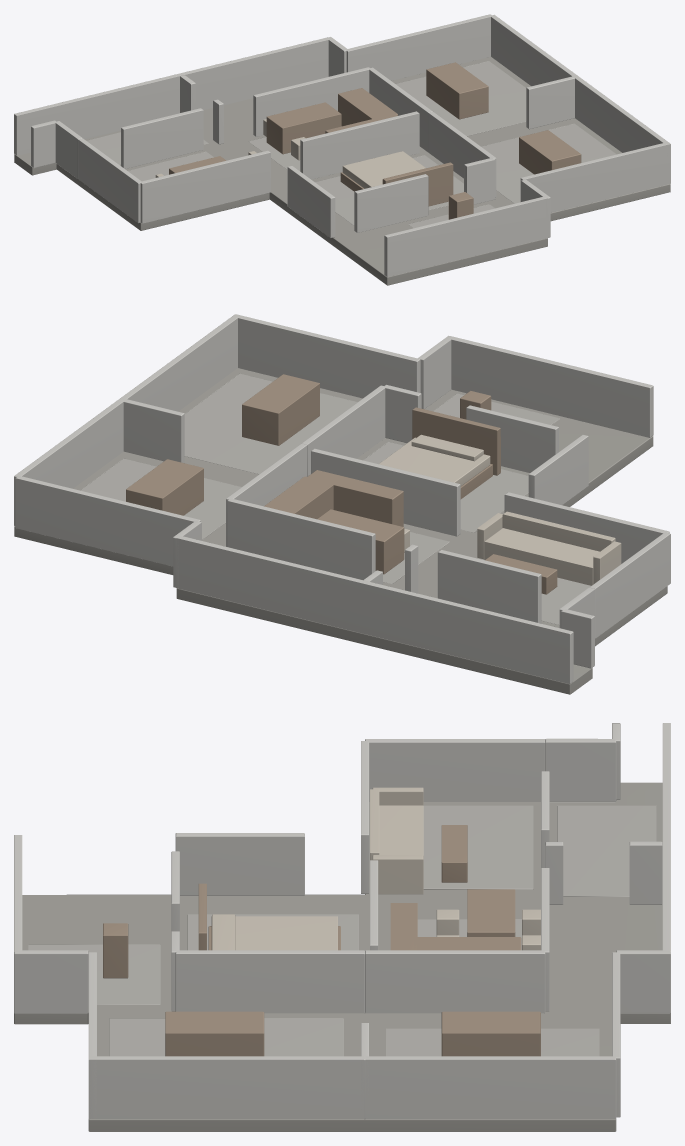
File: exhibition.glb
The picture shows the model from 3 angles, top to bottom: view 1: azimuth 30°, elevation 25°; view 2: azimuth 150°, elevation 25°; view 3: azimuth 270°, elevation 25°; orthographic projection. The views are drawn at different scales.
Parts seen in each view (by area): view 1: Warm white massing, Exhibition floor, Furniture blocks, Zone floor inset, Soft furniture; view 2: Warm white massing, Furniture blocks, Exhibition floor, Zone floor inset, Soft furniture; view 3: Warm white massing, Exhibition floor, Zone floor inset, Furniture blocks, Soft furniture.
Part boxes in pixels (bbox=[...]): Warm white massing: bbox=[14, 14, 670, 277]; Exhibition floor: bbox=[14, 56, 670, 285]; Furniture blocks: bbox=[169, 62, 581, 219]; Zone floor inset: bbox=[86, 61, 616, 228]; Soft furniture: bbox=[155, 119, 425, 188]; Warm white massing: bbox=[14, 314, 670, 683]; Furniture blocks: bbox=[126, 374, 557, 594]; Exhibition floor: bbox=[14, 368, 667, 694]; Zone floor inset: bbox=[80, 373, 590, 625]; Soft furniture: bbox=[379, 434, 621, 585]; Warm white massing: bbox=[14, 723, 670, 1119]; Exhibition floor: bbox=[14, 782, 670, 1131]; Zone floor inset: bbox=[28, 805, 656, 1056]; Furniture blocks: bbox=[103, 825, 540, 1056]; Soft furniture: bbox=[211, 787, 540, 950].
Bounding box in the file's own units: 13.26 × 1.33 × 10.93.
